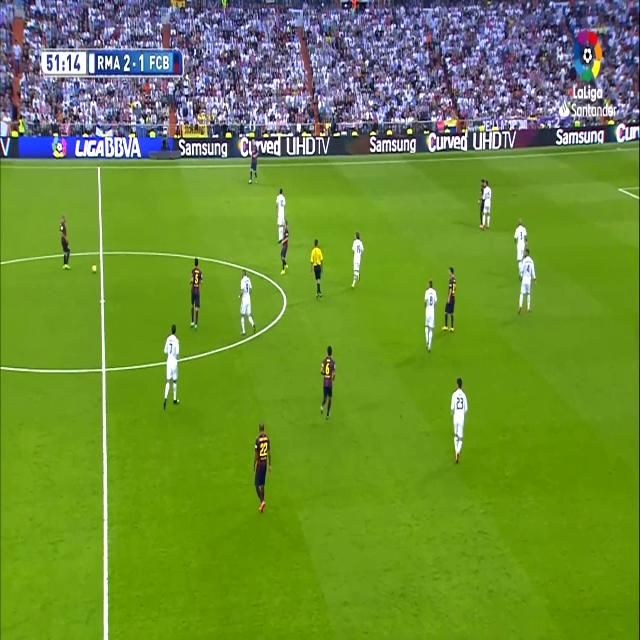bigarea_top_inner: (616, 181, 624, 196)
halfcircle_bottom: (97, 354, 110, 382)
halfcircle_top: (96, 240, 106, 262)
midline_top_intersection: (96, 160, 102, 173)
